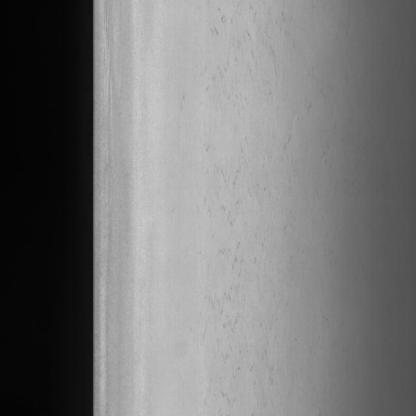silk_spot: (189, 0, 306, 398)
